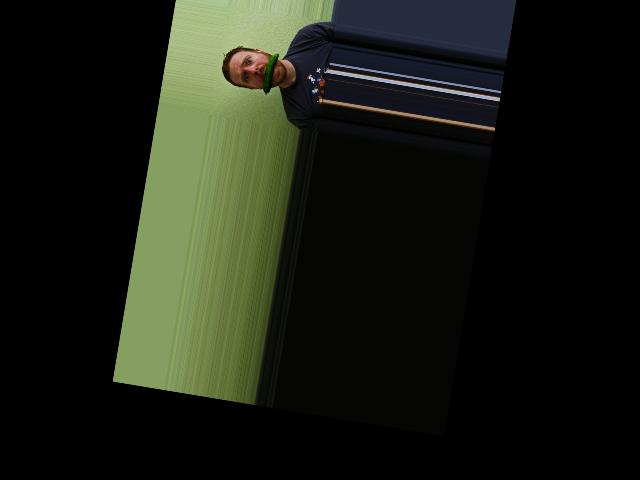cucumber: (262, 51, 279, 95)
